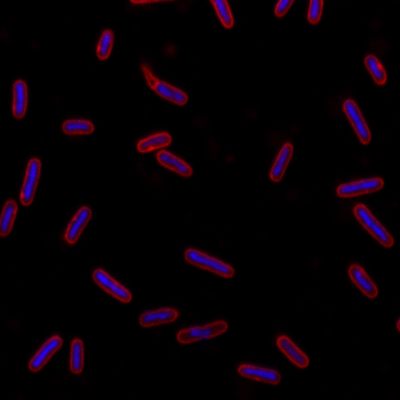Oblique: (140, 64, 190, 105)
Rifampicin: (351, 203, 395, 250), (182, 246, 235, 280), (339, 97, 373, 147), (90, 266, 133, 303), (25, 333, 63, 372), (175, 318, 228, 345), (345, 263, 379, 301), (62, 204, 93, 245), (274, 334, 310, 369), (155, 147, 194, 179), (334, 176, 385, 200), (267, 140, 296, 182), (19, 157, 43, 207), (236, 360, 280, 385), (136, 304, 180, 329), (134, 130, 173, 154), (361, 51, 387, 86), (10, 78, 30, 121), (68, 335, 87, 376), (1, 199, 19, 239), (61, 116, 96, 136), (94, 27, 115, 60)
